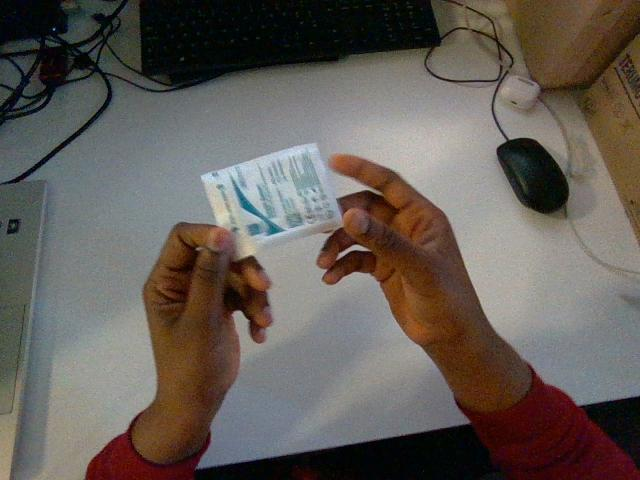gauze: (201, 144, 341, 258)
